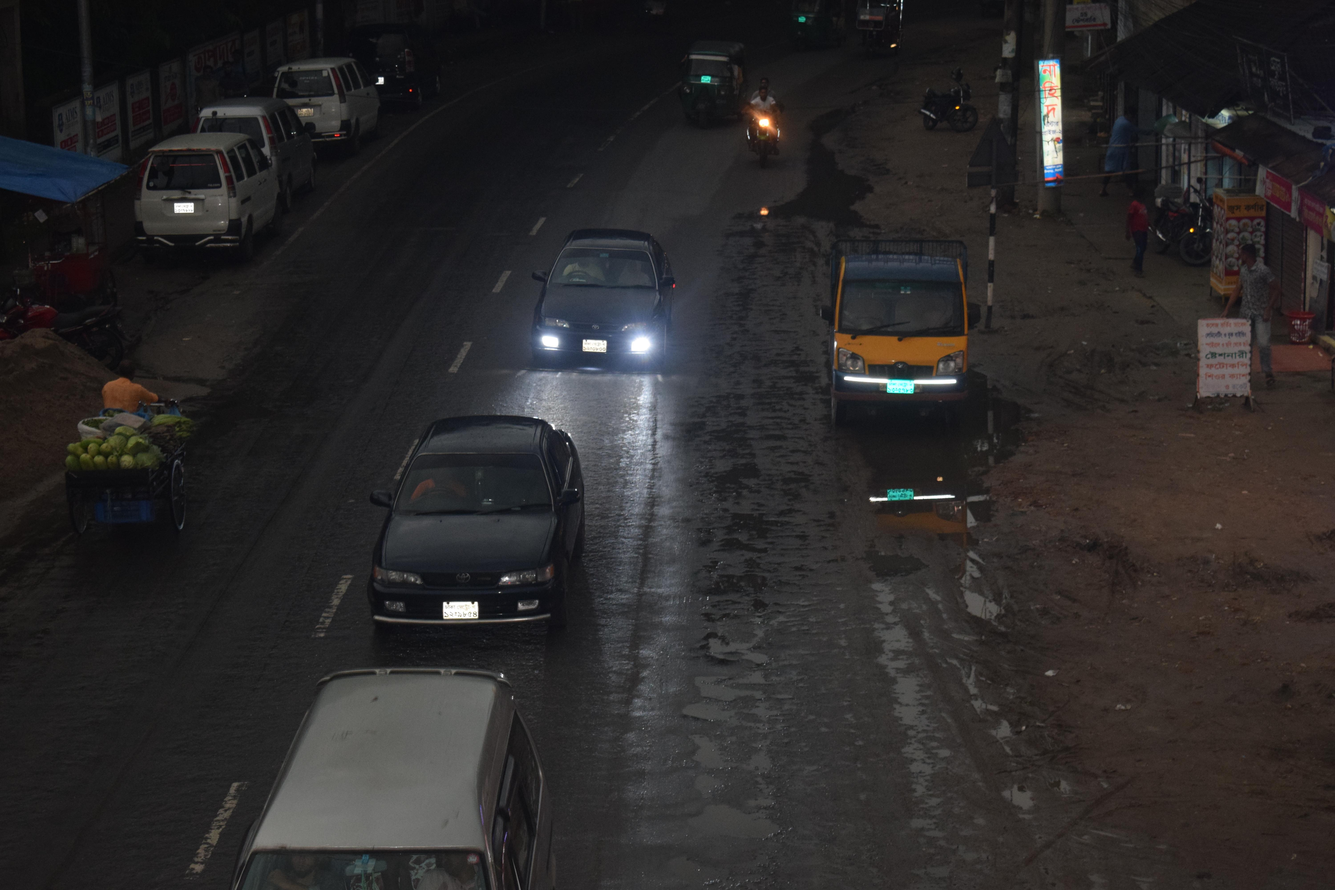Bike: (718, 74, 812, 174), (904, 67, 993, 154)
Car: (188, 617, 595, 890), (299, 378, 623, 666), (487, 210, 715, 391), (124, 119, 274, 275), (152, 75, 316, 216), (256, 42, 399, 150)
Truck: (783, 200, 1010, 460)
